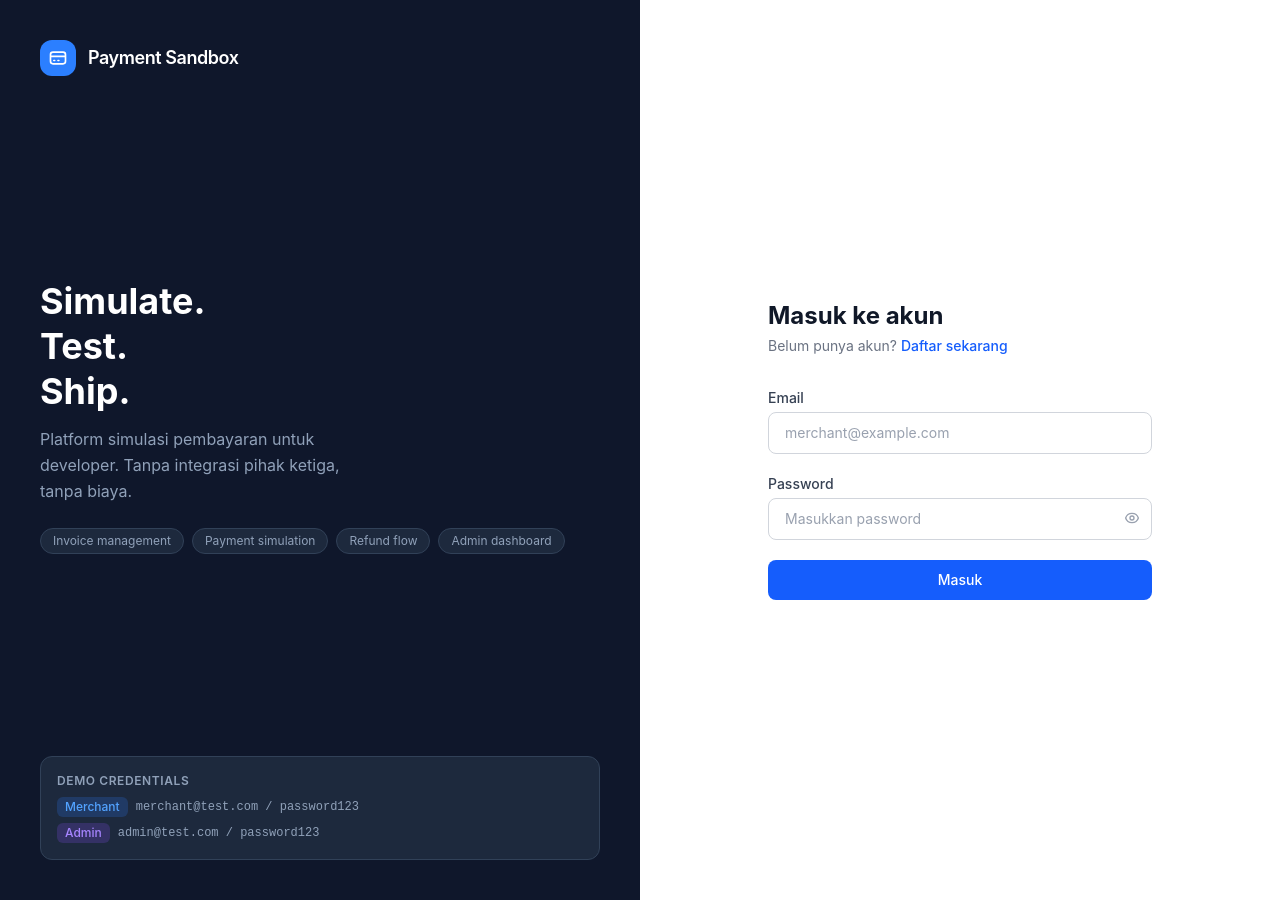
Scenario: LoginPage › shows email format error for invalid email
Type "bukan-email" into the field labelled "Email" at (960, 433), box top-left (768, 412), bottom-right (1152, 454)
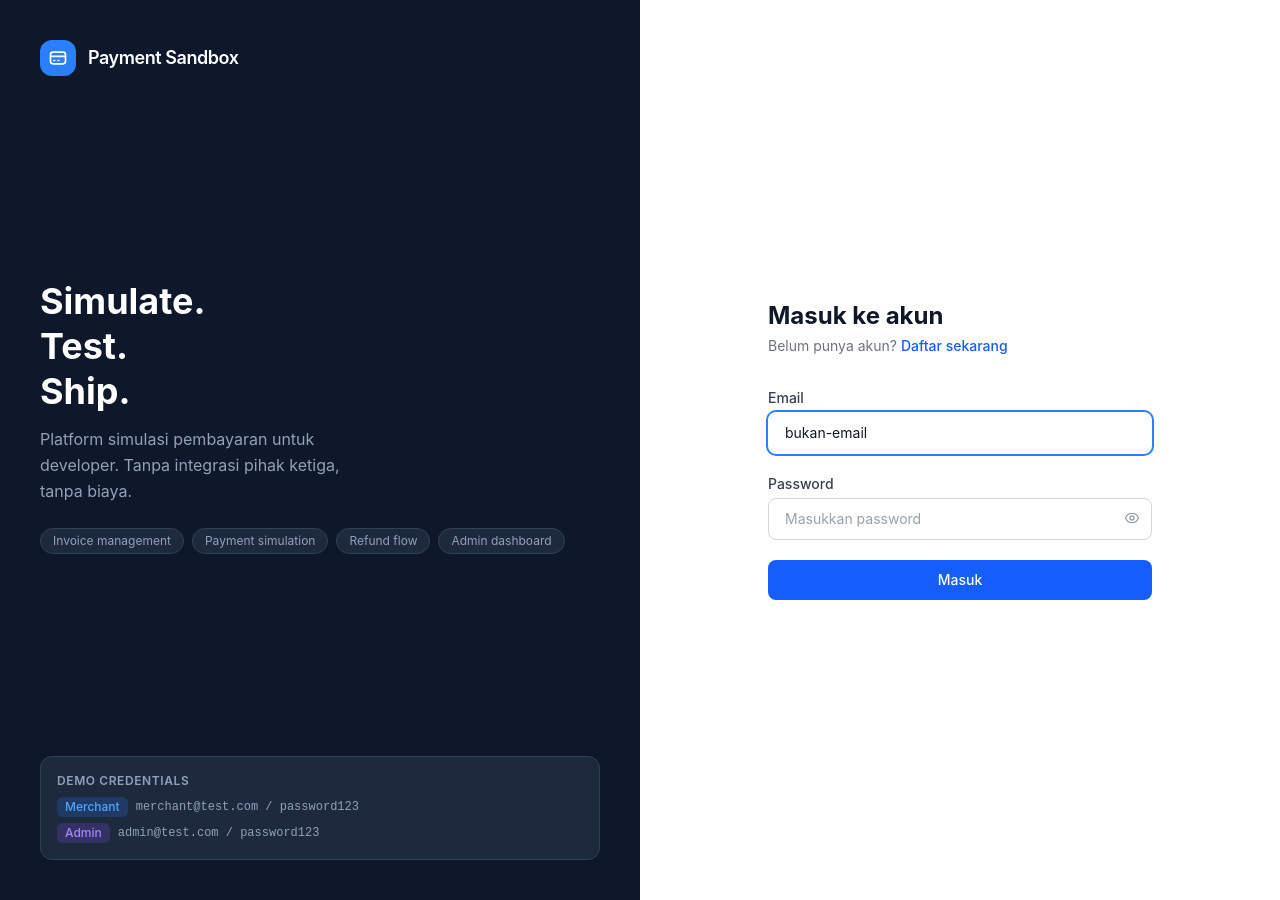
Click the button "Masuk" at (960, 580), box top-left (768, 560), bottom-right (1152, 600)
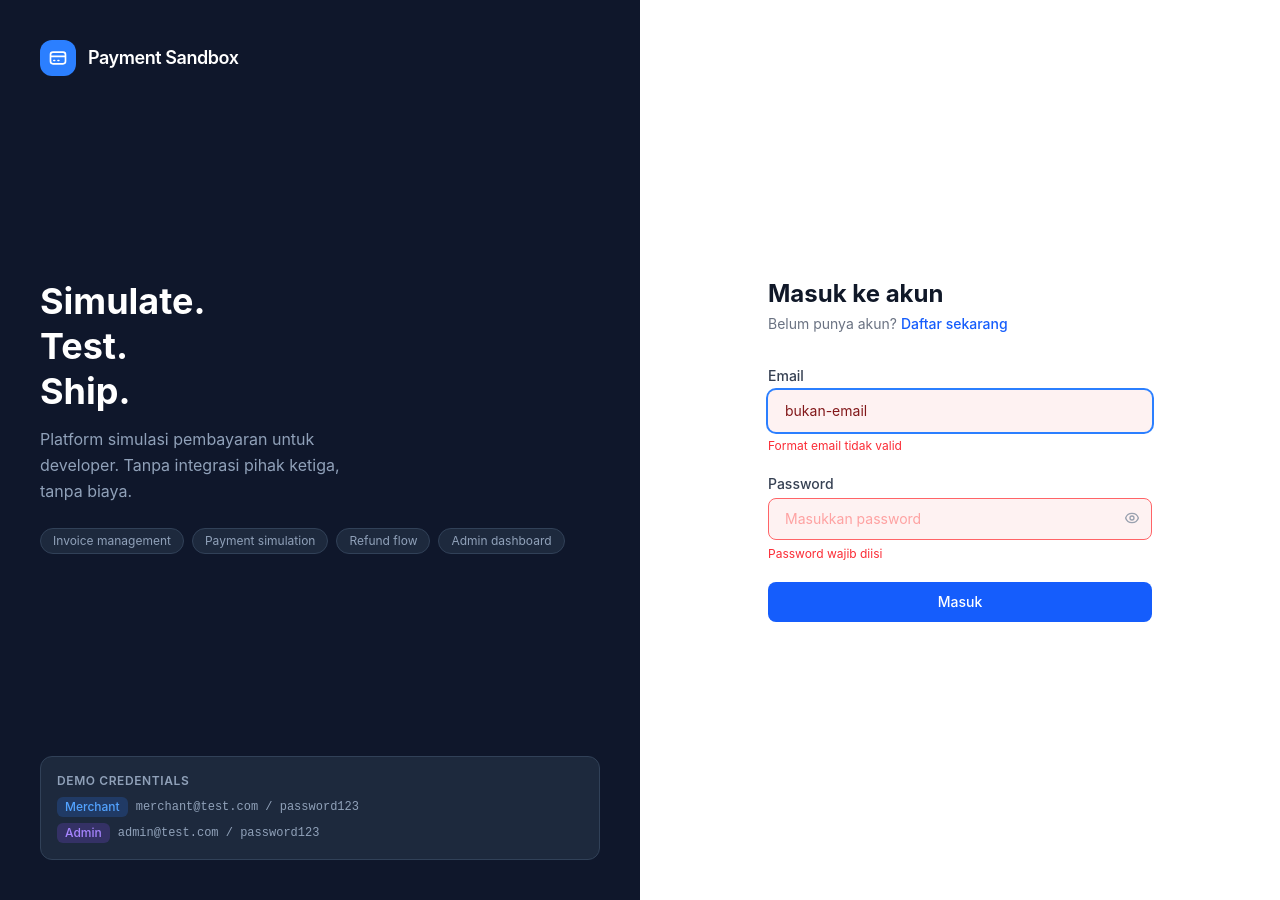
Result: the text "Format email tidak valid" is shown at top-left (768, 438), bottom-right (902, 453)
